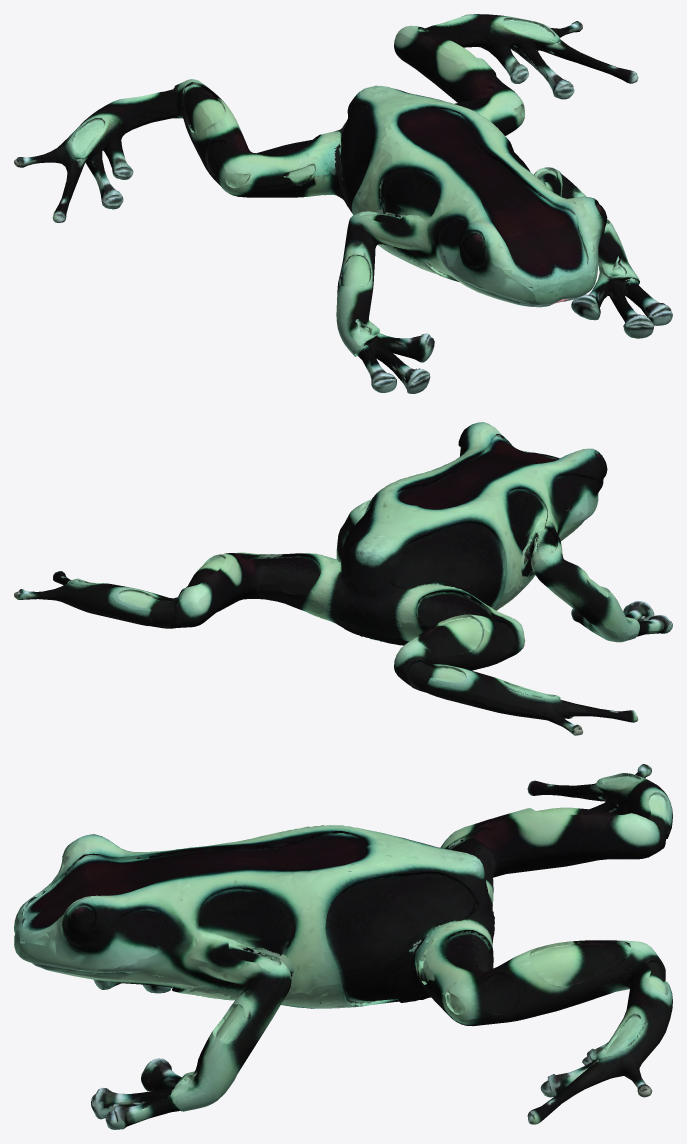
The model's file is harlequin-mint.swim.glb.
3 views of the same model, one above another, from view 1: azimuth 30°, elevation 25°; view 2: azimuth 150°, elevation 25°; view 3: azimuth 270°, elevation 25° (orthographic). The views are drawn at different scales.
Parts seen in each view (by area): view 1: harlequin.swim; view 2: harlequin.swim; view 3: harlequin.swim.
Boxes of the visible parts, left/top/right/bottom form: harlequin.swim: left=14, top=14, right=672, bottom=393; harlequin.swim: left=14, top=422, right=672, bottom=735; harlequin.swim: left=14, top=764, right=672, bottom=1129.
Bounding box in the file's own units: 0.0546 × 0.0156 × 0.0452.
1 material, 1 textured.
